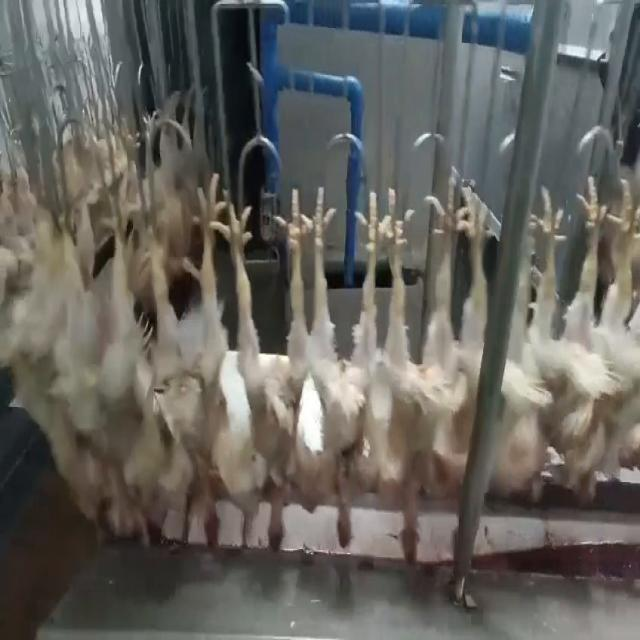chicken: (386, 175, 487, 558), (143, 170, 230, 561), (515, 172, 613, 510), (306, 183, 386, 554), (232, 192, 308, 560), (603, 179, 639, 488)
